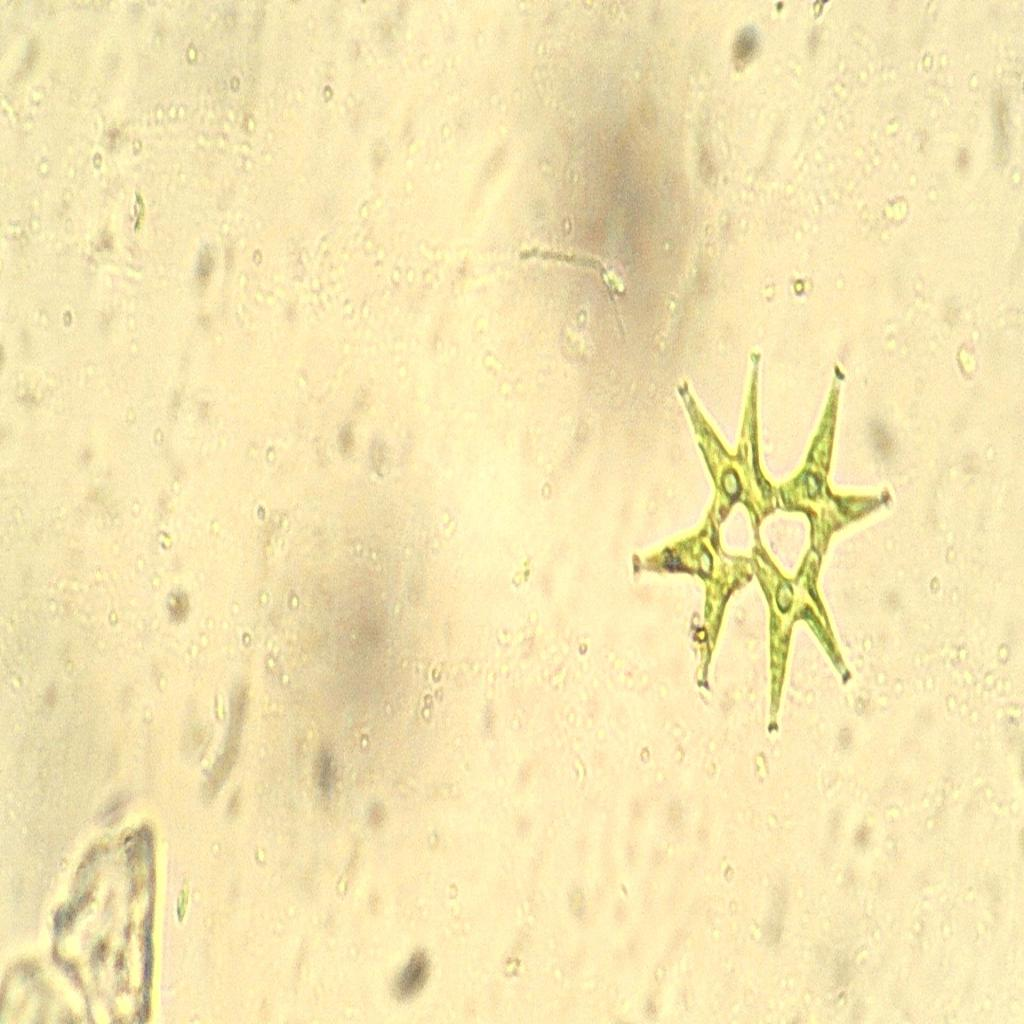Pediastrum_75FO: (623, 342, 898, 752)
